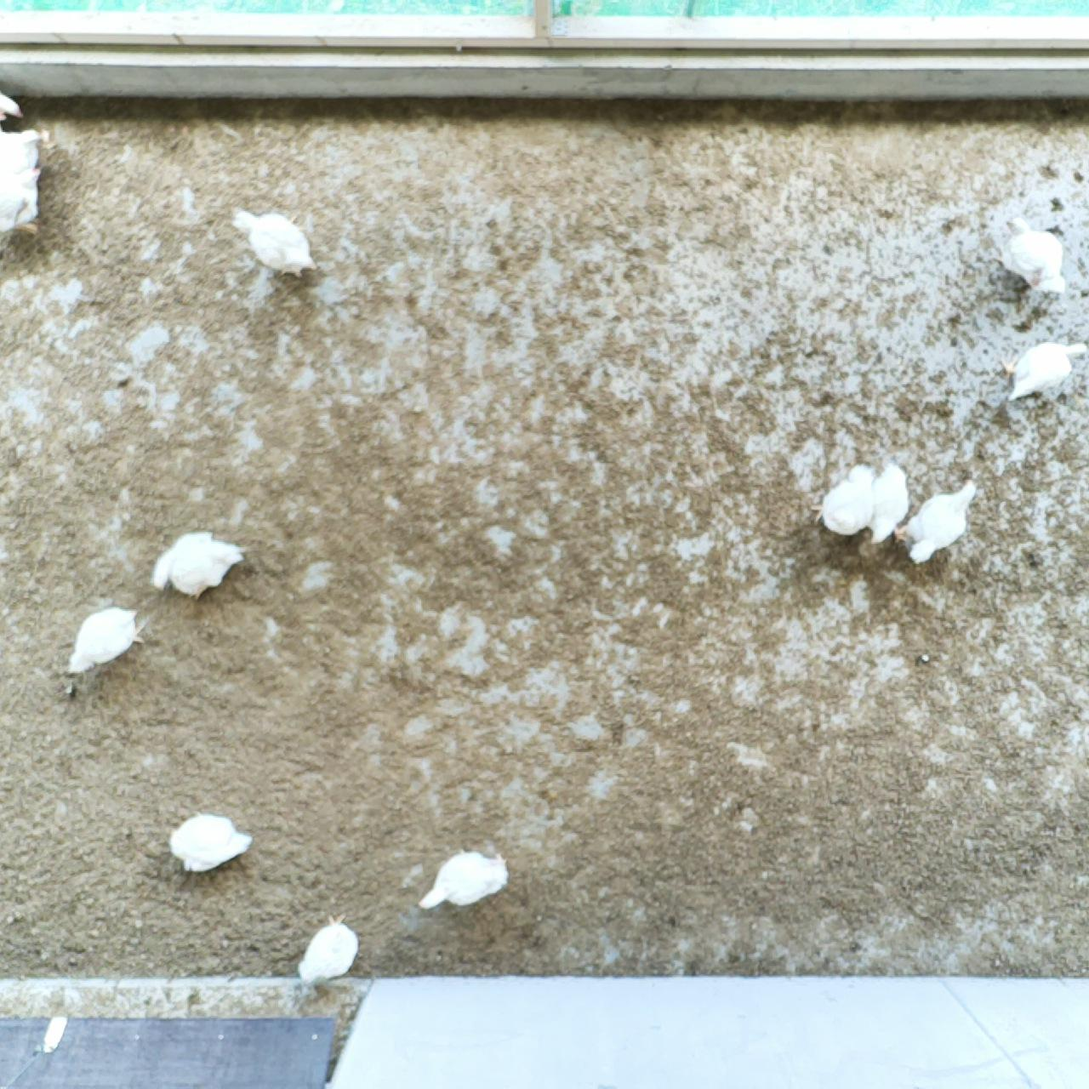chicken: (891, 479, 981, 569), (148, 526, 245, 601), (417, 842, 514, 915), (63, 603, 148, 684), (228, 208, 320, 281), (996, 339, 1089, 411), (997, 211, 1071, 299), (168, 812, 253, 877), (295, 909, 363, 985), (811, 462, 879, 538), (861, 458, 913, 546), (0, 166, 47, 241), (0, 126, 41, 179), (0, 90, 28, 130)
